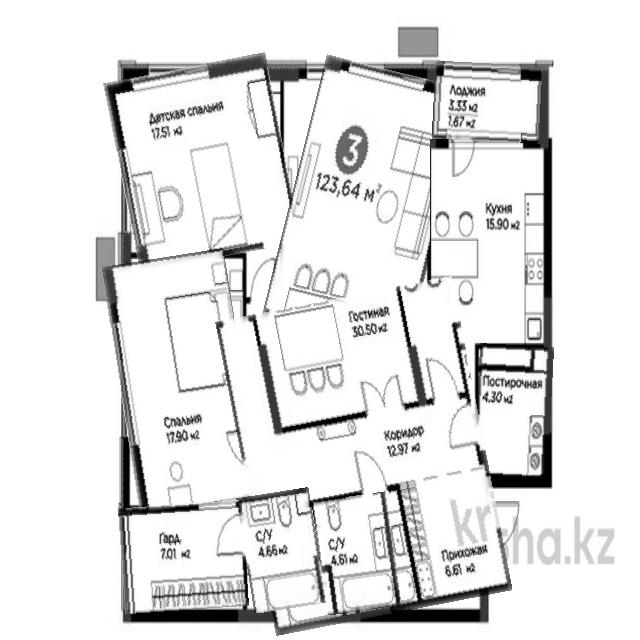balcony: (434, 63, 546, 143)
bathroom: (475, 344, 552, 487), (315, 494, 398, 613), (241, 490, 322, 611)
hallway: (215, 317, 512, 609)
kitchen: (431, 139, 546, 349)
living_room: (262, 61, 451, 422), (112, 59, 293, 266), (111, 252, 253, 514)
other: (120, 502, 248, 612)
